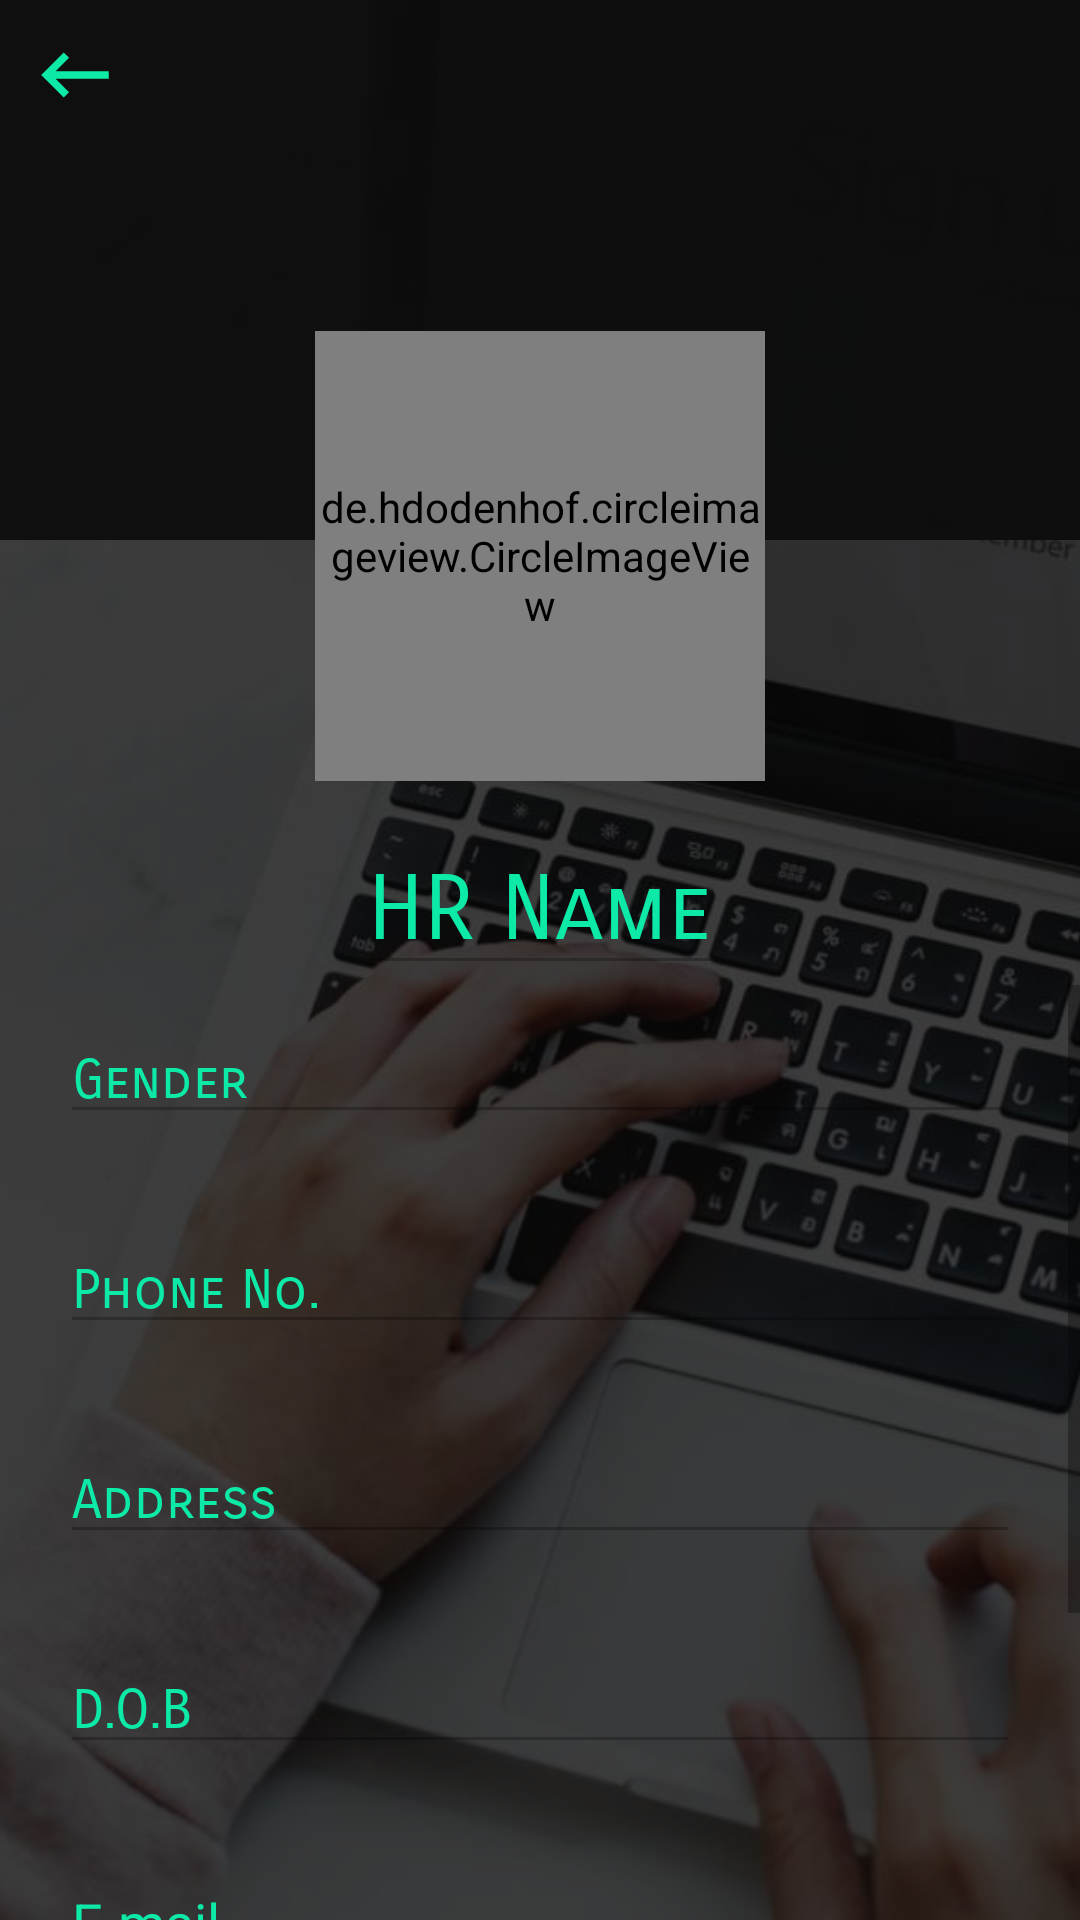

Named icons in this screenshot (1080x1920) and their centers, (x,y):
back: (75,75)
